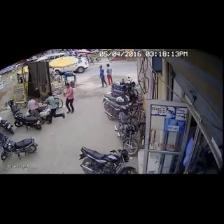person: (45, 93, 65, 123), (64, 83, 74, 113), (100, 66, 107, 87), (107, 64, 112, 85)
